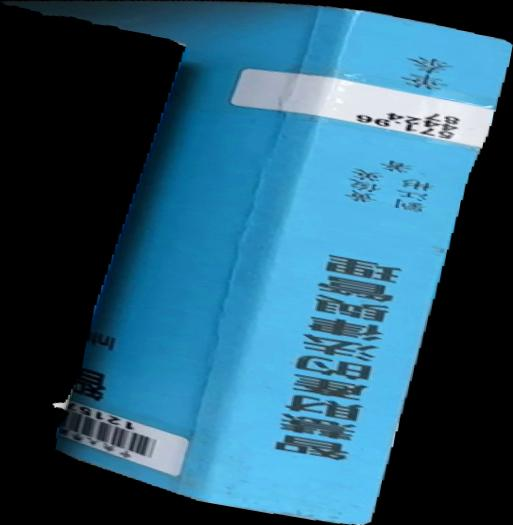reverse: (1, 1, 513, 525)
